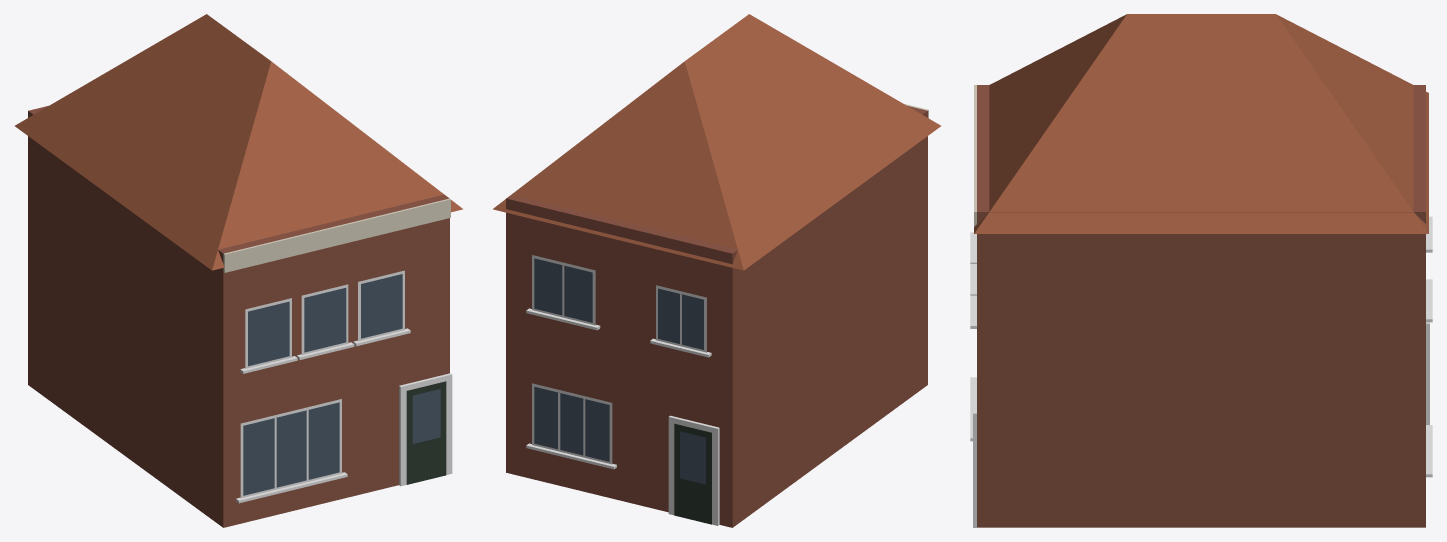
File: nd-bz-brick-row__green-door__2__hip__short__solid__mirror.glb
The picture shows the model from 3 angles, left to right: view 1: azimuth 30°, elevation 25°; view 2: azimuth 150°, elevation 25°; view 3: azimuth 270°, elevation 25°; orthographic projection. The views are drawn at different scales.
Parts seen in each view (by area): view 1: nd-bz-brick-row__green-door__2__hip__short__solid__mirror; view 2: nd-bz-brick-row__green-door__2__hip__short__solid__mirror; view 3: nd-bz-brick-row__green-door__2__hip__short__solid__mirror.
Boxes of the visible parts, x1,y1,x2,y2 form: nd-bz-brick-row__green-door__2__hip__short__solid__mirror: [15, 14, 462, 527]; nd-bz-brick-row__green-door__2__hip__short__solid__mirror: [493, 14, 940, 527]; nd-bz-brick-row__green-door__2__hip__short__solid__mirror: [970, 14, 1432, 527].
Size of the model in its own units: 6.01 by 8.94 by 8.33.
